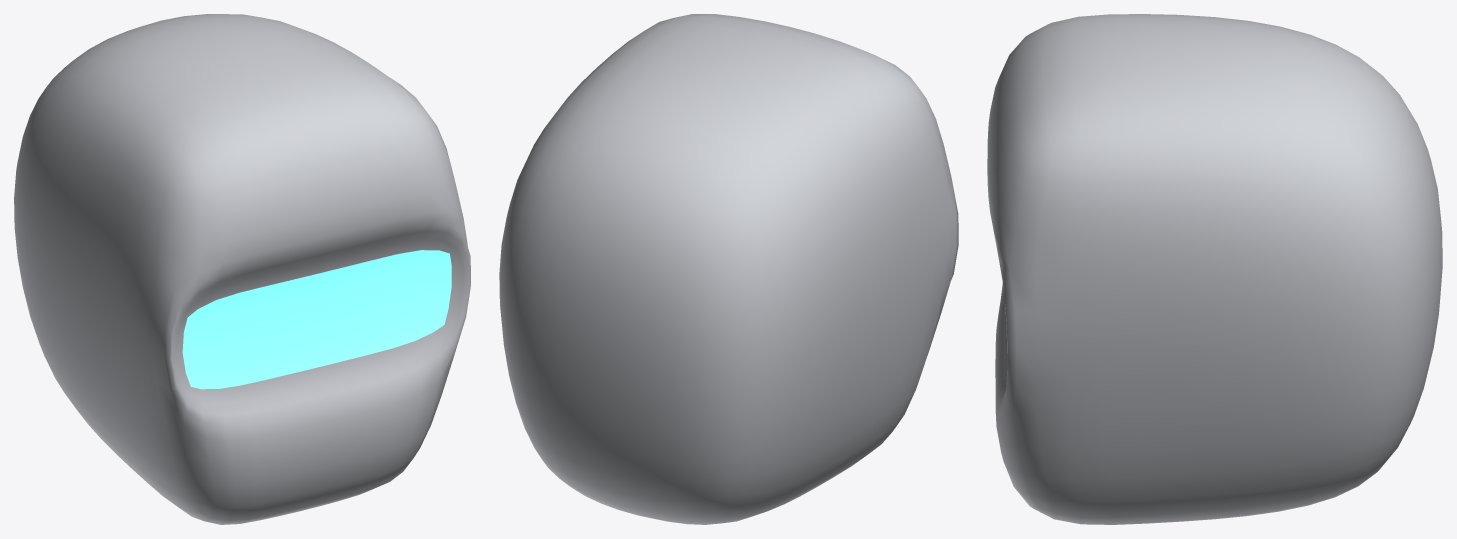
Rendered from cabeza_04.glb.
3 renders of one model, left to right at view 1: azimuth 30°, elevation 25°; view 2: azimuth 150°, elevation 25°; view 3: azimuth 270°, elevation 25°, orthographic. The views are drawn at different scales.
Visible parts, largest first — view 1: Cabeza_04; view 2: Cabeza_04; view 3: Cabeza_04.
Boxes of the visible parts, <box> form: Cabeza_04: <box>14,14,470,524</box>; Cabeza_04: <box>499,14,958,524</box>; Cabeza_04: <box>987,14,1442,524</box>.
Size of the model in its own units: 0.7524 by 0.9681 by 0.8962.
